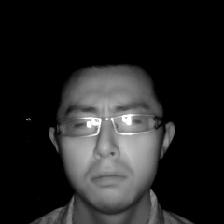sad: (37, 52, 184, 214)
